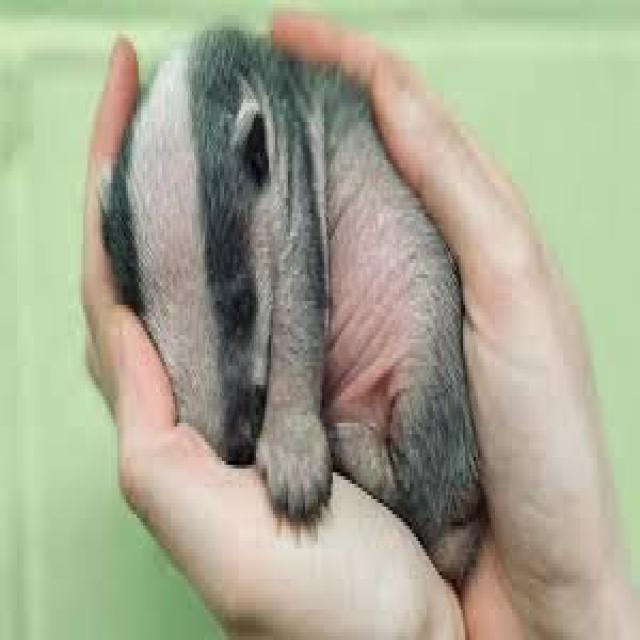Badger: (107, 14, 486, 578)
